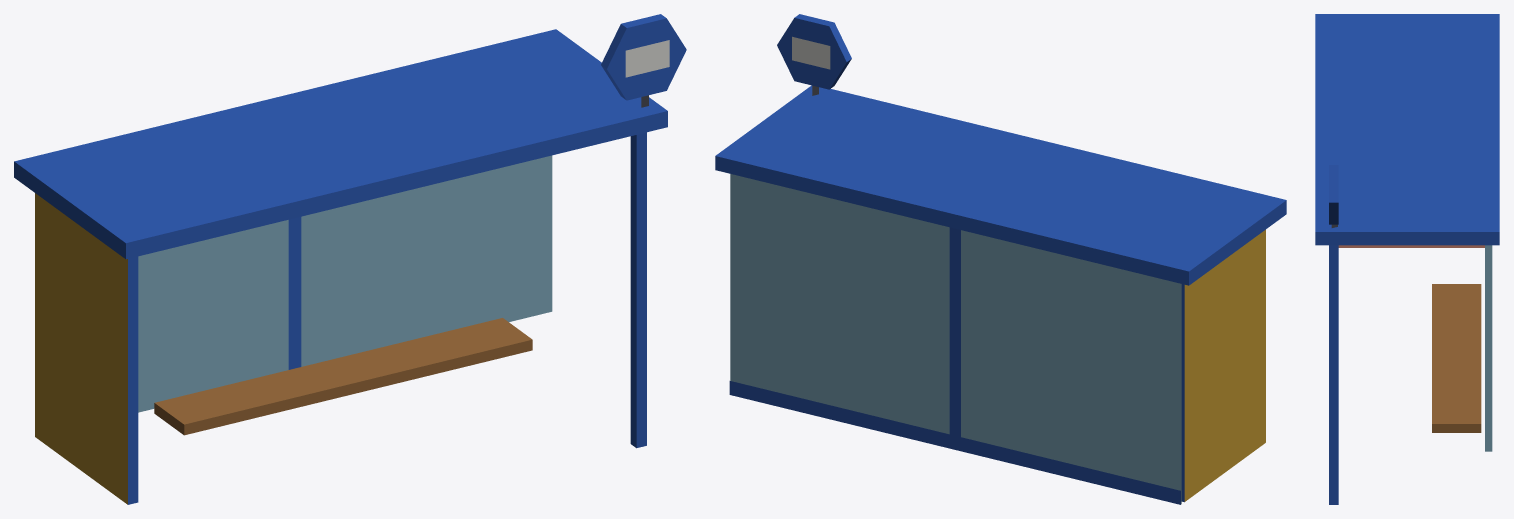
File: prop_busstop.glb
The picture shows the model from 3 angles, left to right: view 1: azimuth 30°, elevation 25°; view 2: azimuth 150°, elevation 25°; view 3: azimuth 270°, elevation 25°; orthographic projection. The views are drawn at different scales.
Visible parts, largest first — view 1: prop_busstop; view 2: prop_busstop; view 3: prop_busstop.
Boxes of the visible parts, box(x1,y1,x2,y2) form: prop_busstop: box(14, 14, 686, 504); prop_busstop: box(715, 14, 1286, 504); prop_busstop: box(1315, 14, 1499, 504).
Size of the model in its own units: 4.41 by 3.13 by 1.5.
